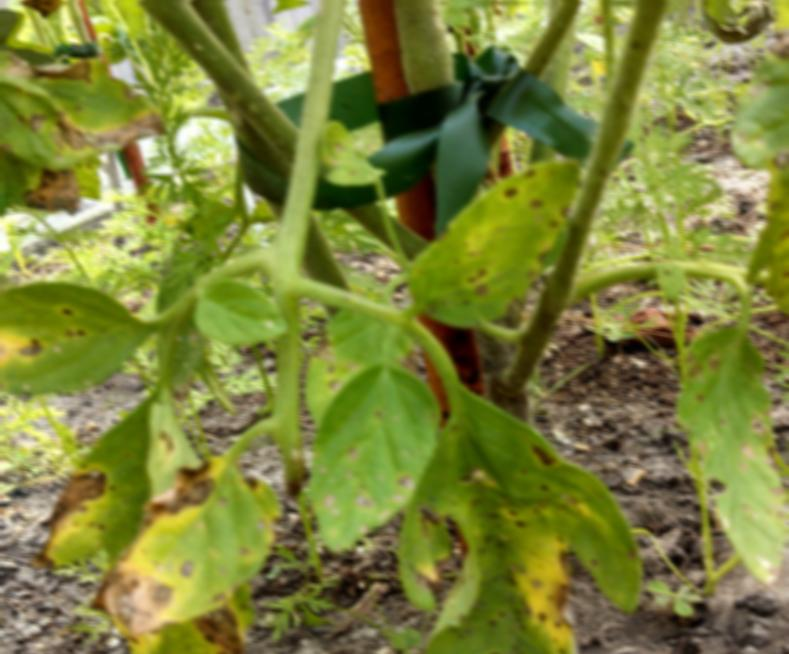Tomato Septoria leaf spot: (375, 383, 647, 654), (658, 278, 789, 621), (1, 381, 189, 592), (119, 406, 291, 636), (399, 153, 594, 339), (294, 345, 446, 559), (0, 266, 143, 396)
